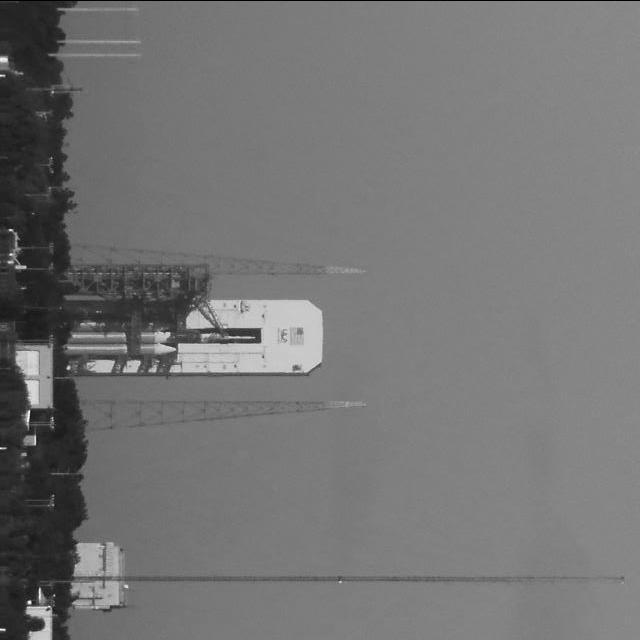missile: (67, 340, 177, 356), (65, 330, 172, 344)
